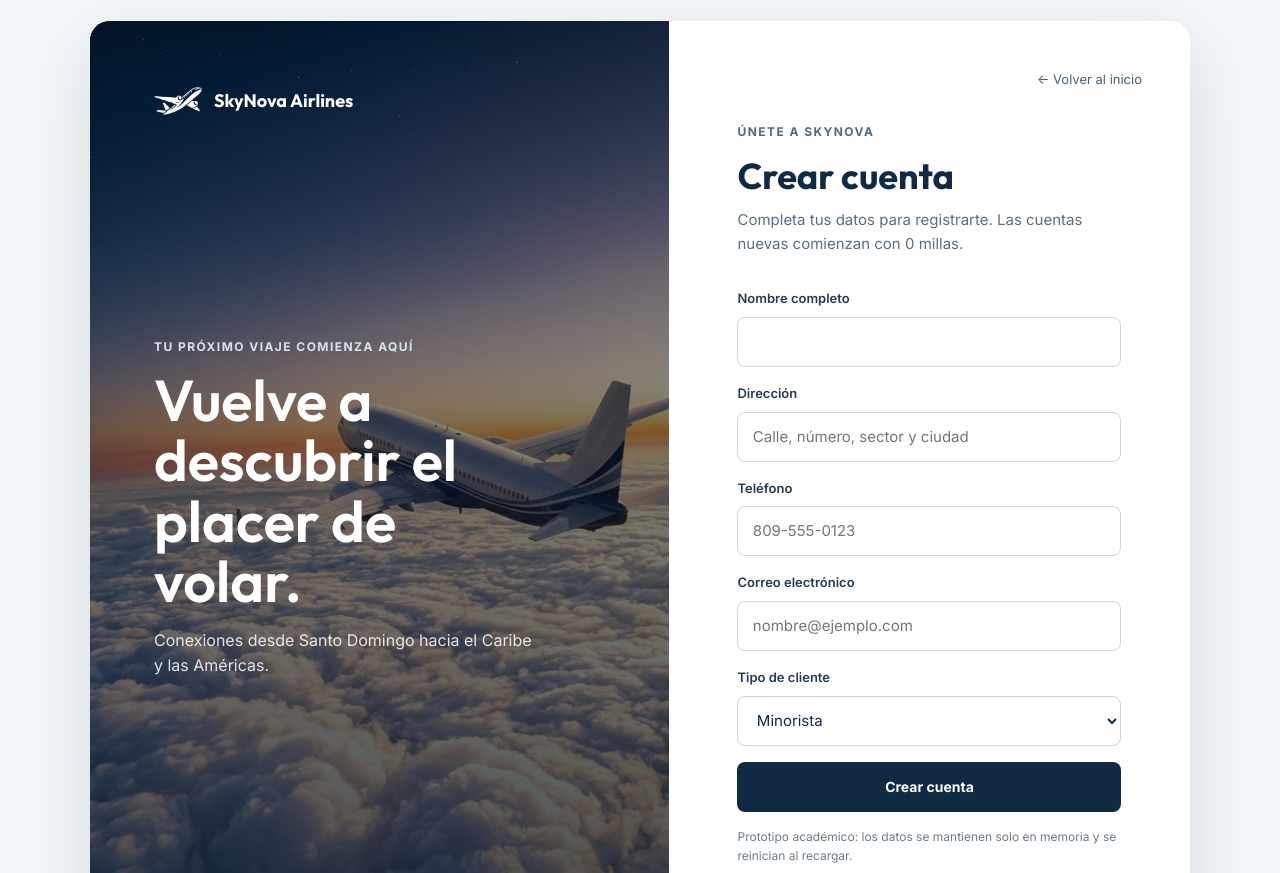
LoginPage — CU-02 registration › requires a company for corporate customers and registers the data
Later steps or results of the test are not shown.
Type "Ana Pérez" into the field labelled "Nombre completo" at (930, 342), box x1=738 y1=317 x2=1122 y2=367
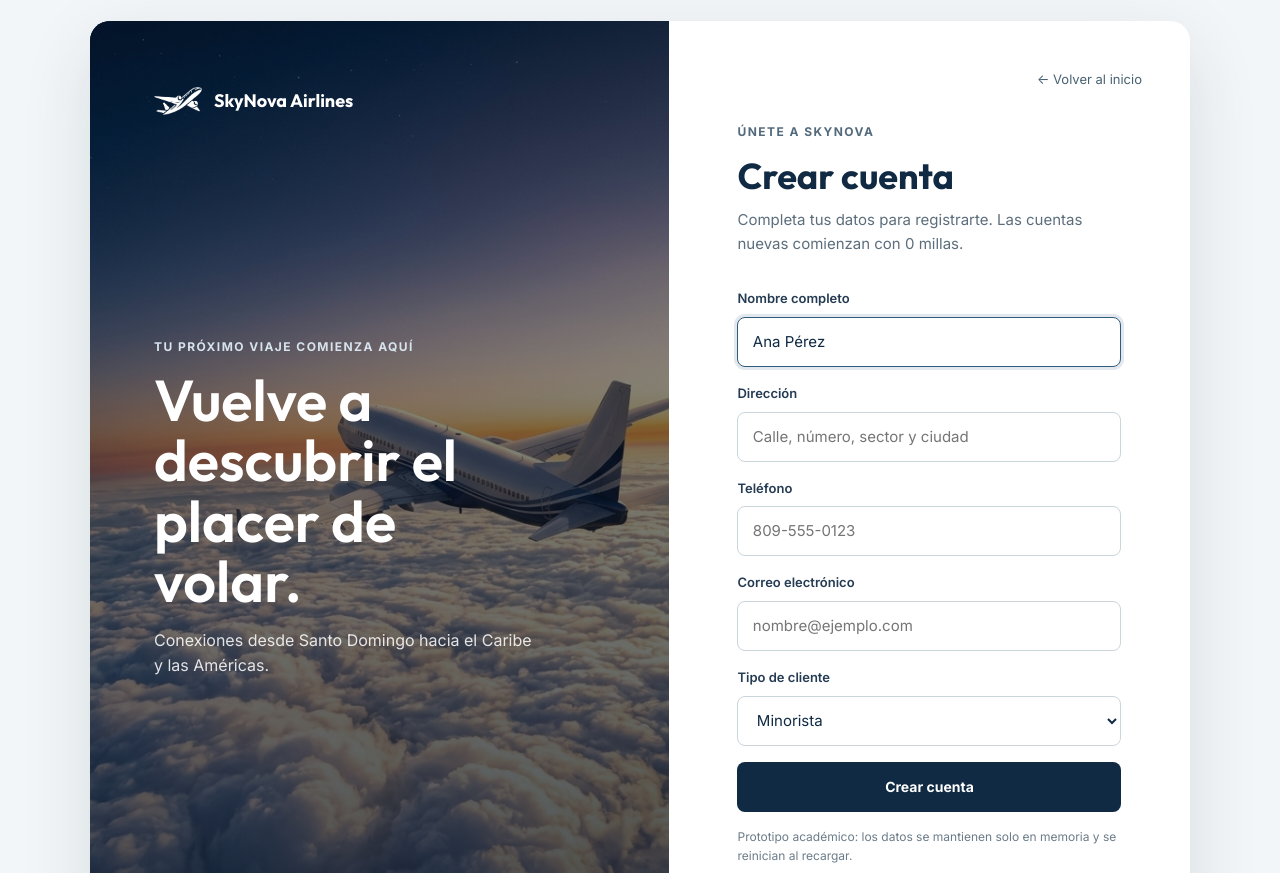
Type "Av. 27 de Febrero 10" into the field labelled "Dirección" at (930, 437), box x1=738 y1=412 x2=1122 y2=462
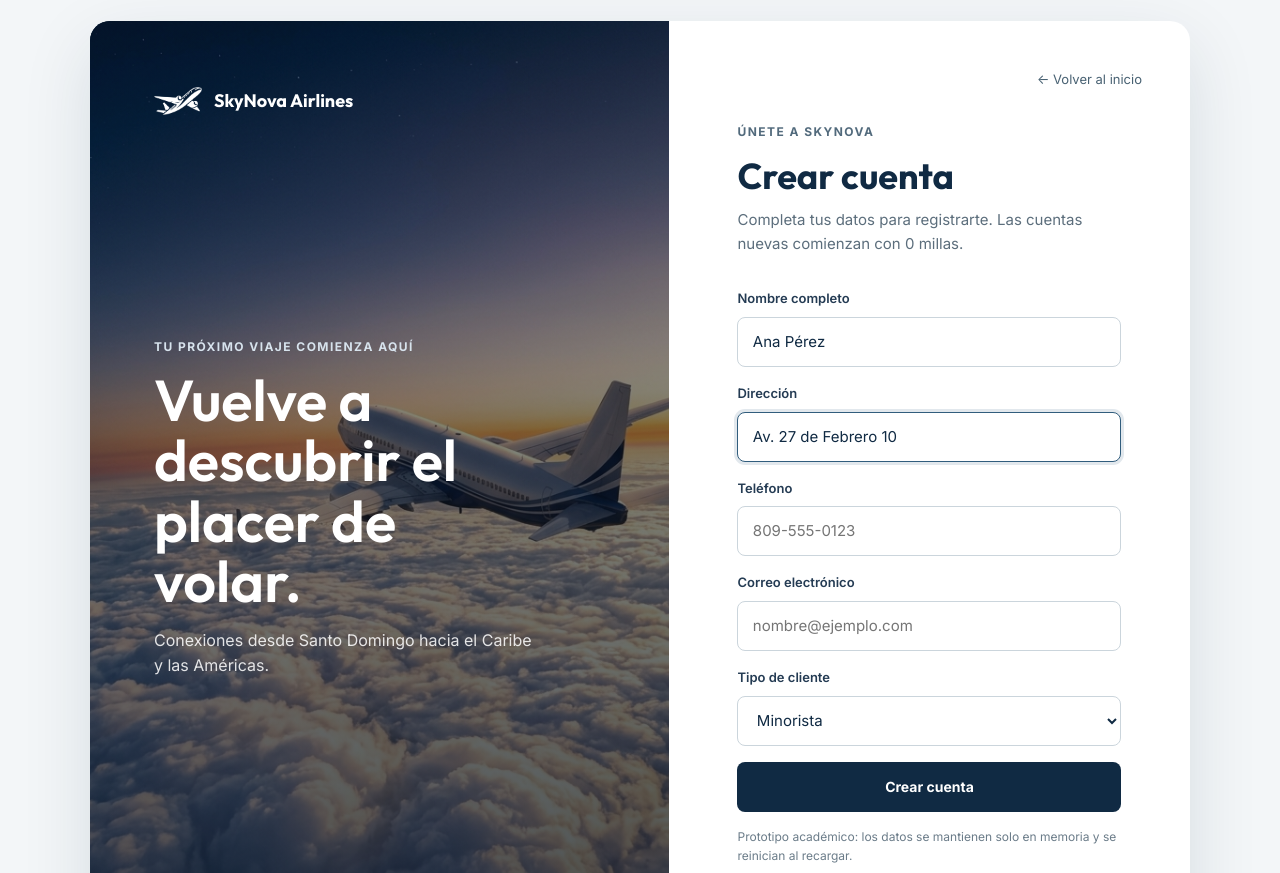
Type "+1 809-555-0111" into the field labelled "Teléfono" at (930, 531), box x1=738 y1=506 x2=1122 y2=556
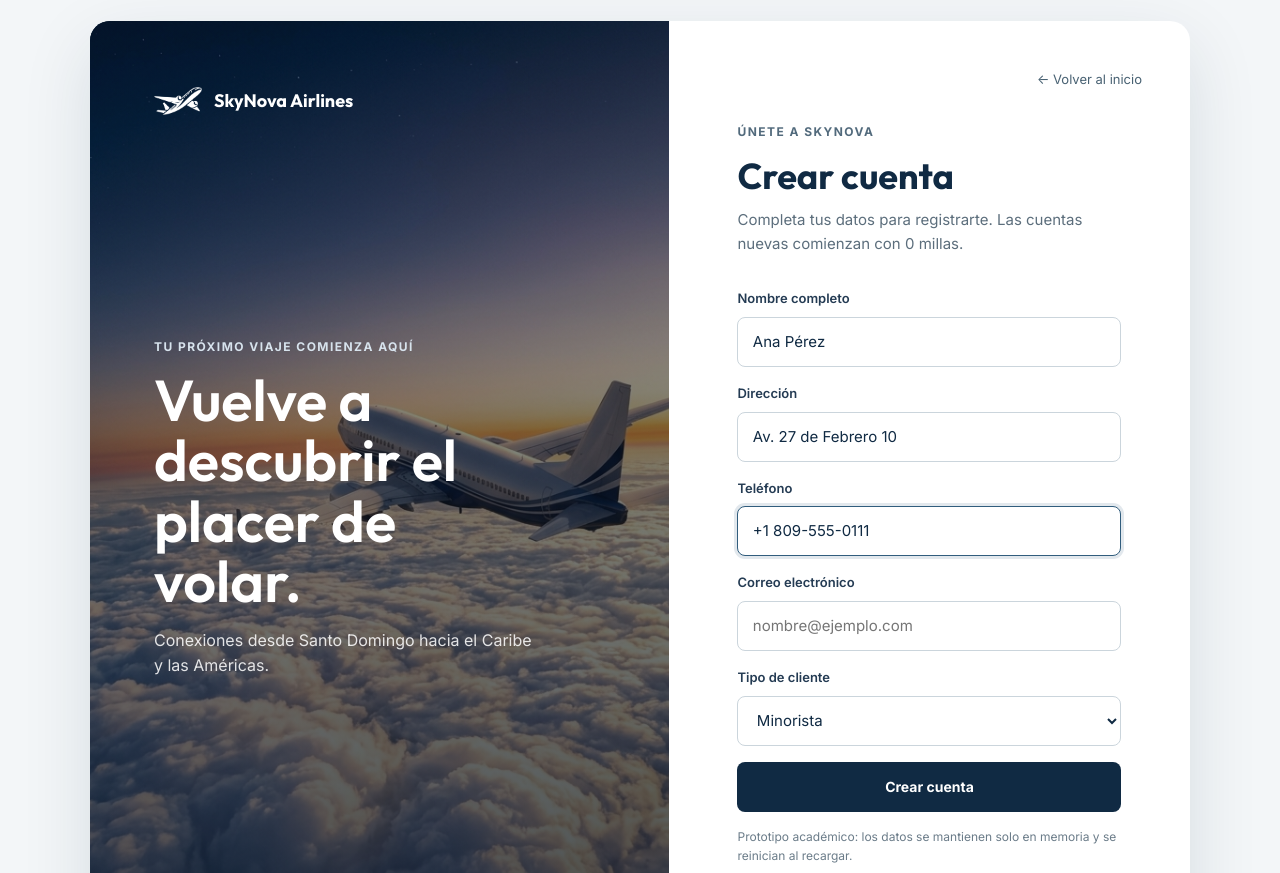
Type "ana@empresa.demo" into the field labelled "Correo electrónico" at (930, 626), box x1=738 y1=601 x2=1122 y2=651
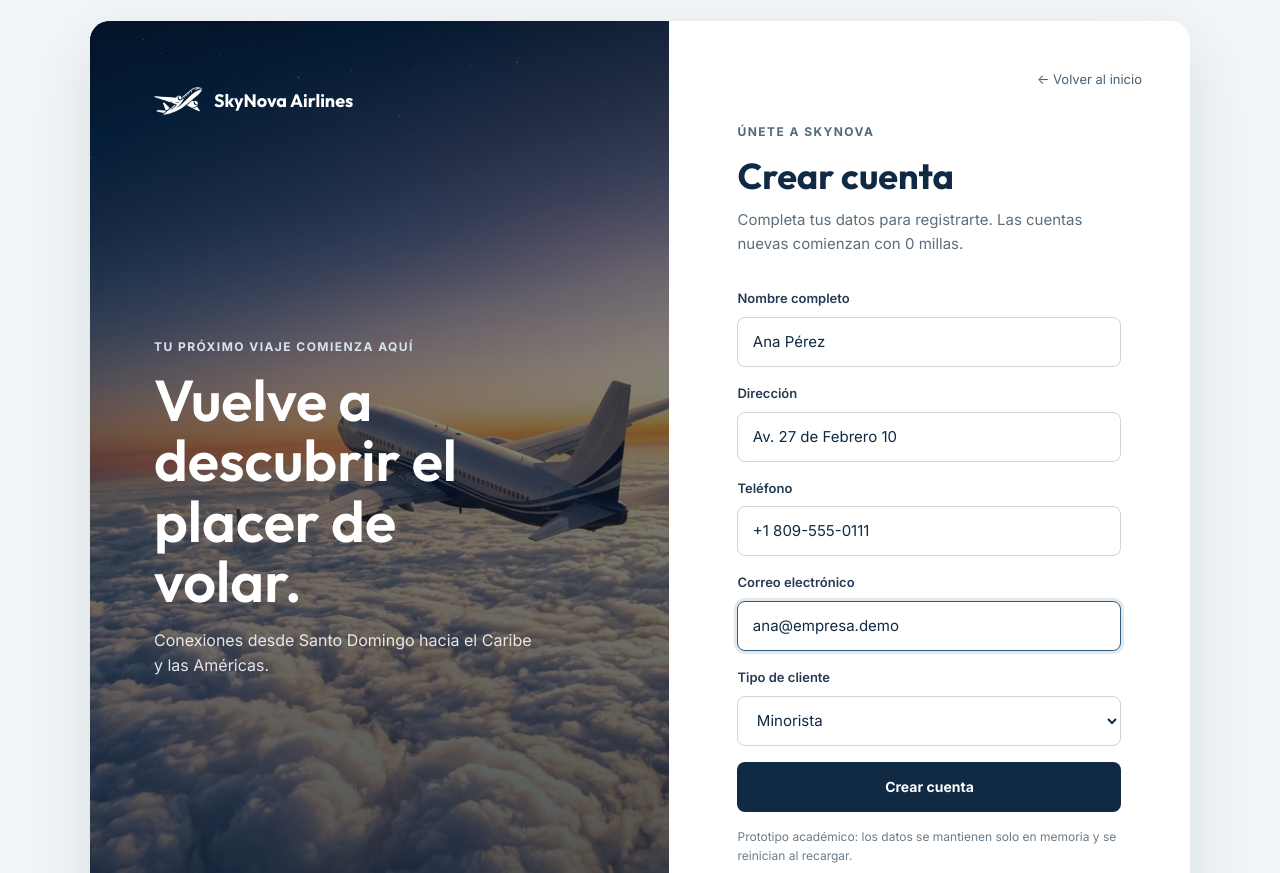
Select "Corporativo" in the dropdown labelled "Tipo de cliente" at (930, 721), box x1=738 y1=696 x2=1122 y2=746
(page scrolled)
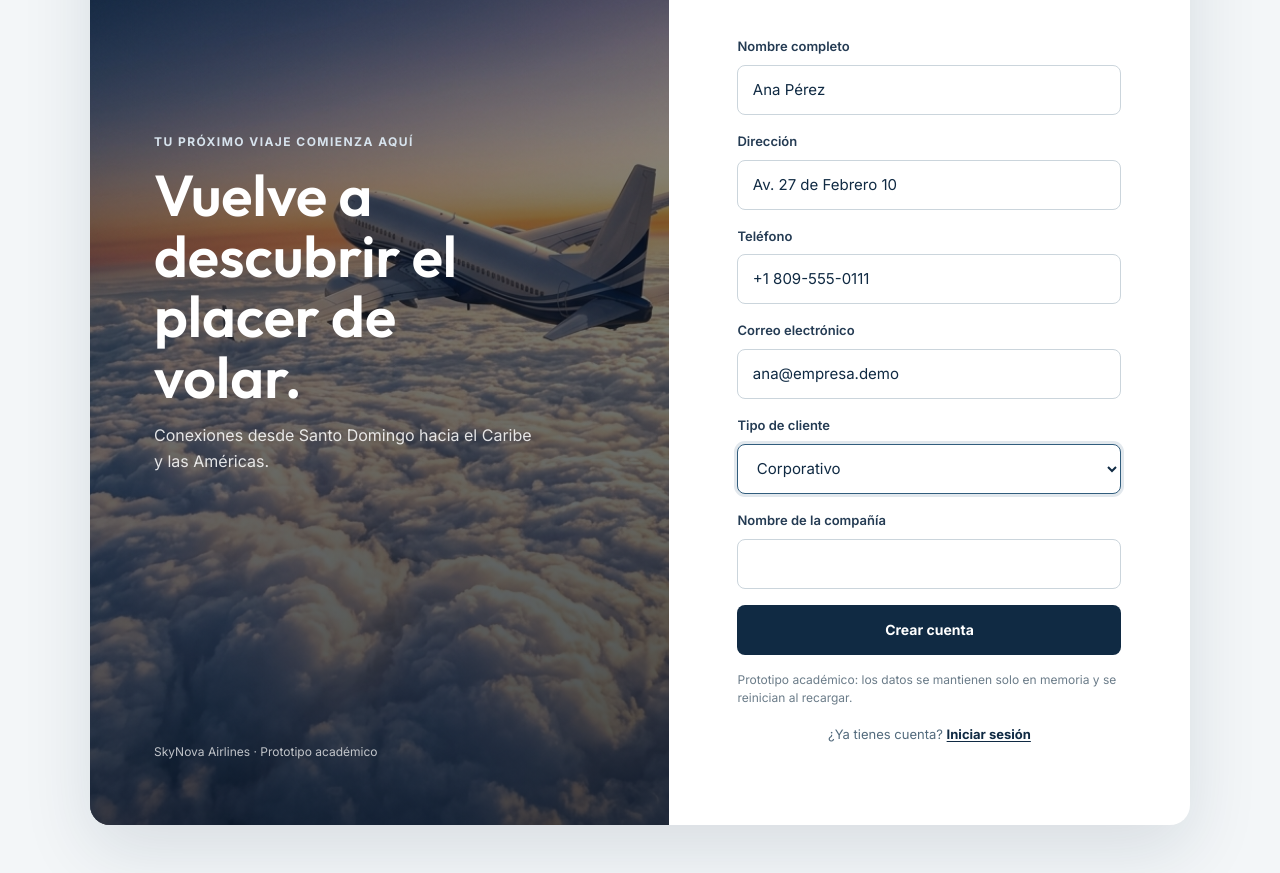
Click the button "Crear cuenta" at (930, 630), box x1=738 y1=605 x2=1122 y2=655
(page scrolled)
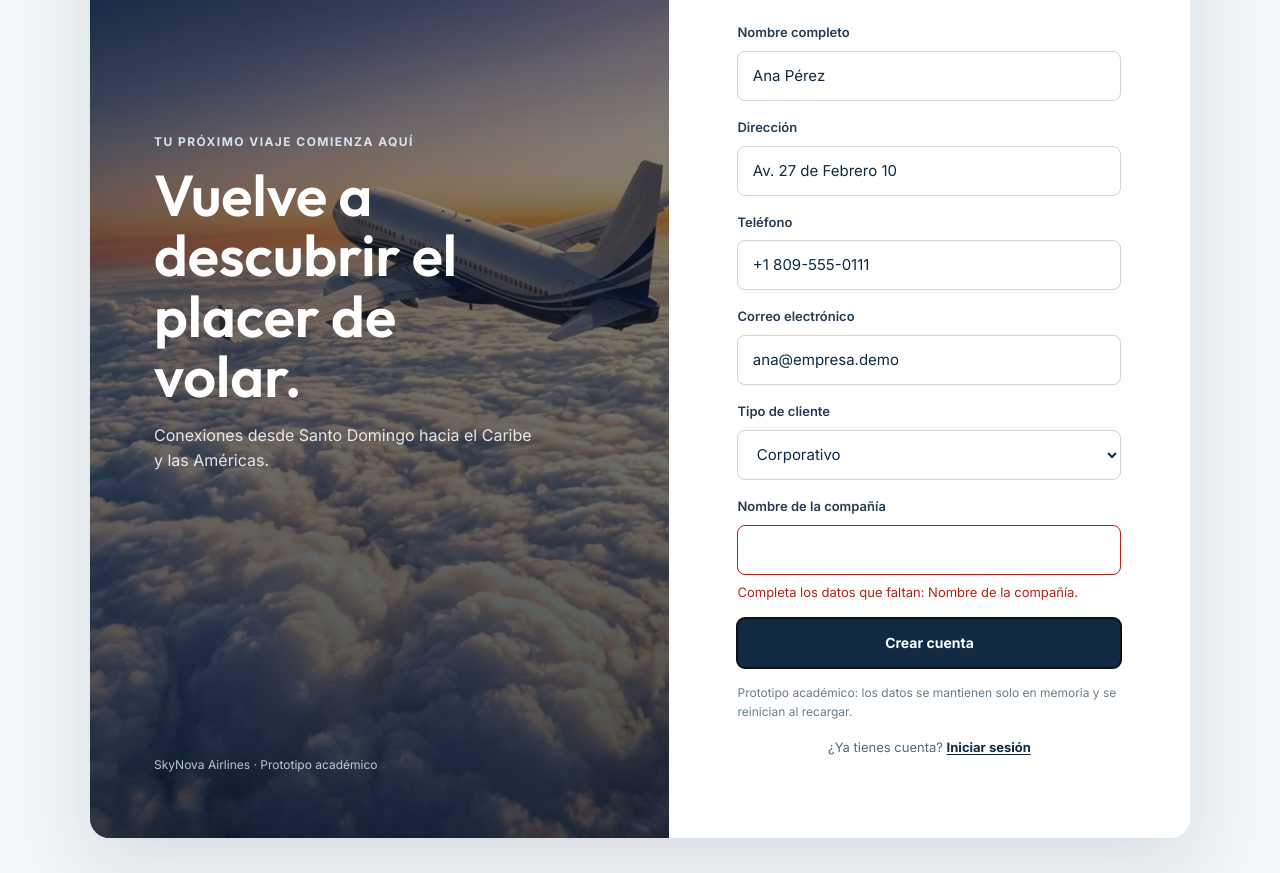
Result: the text "Completa los datos que faltan: Nombre de la compañía." is shown at x1=738 y1=583 x2=1122 y2=602
